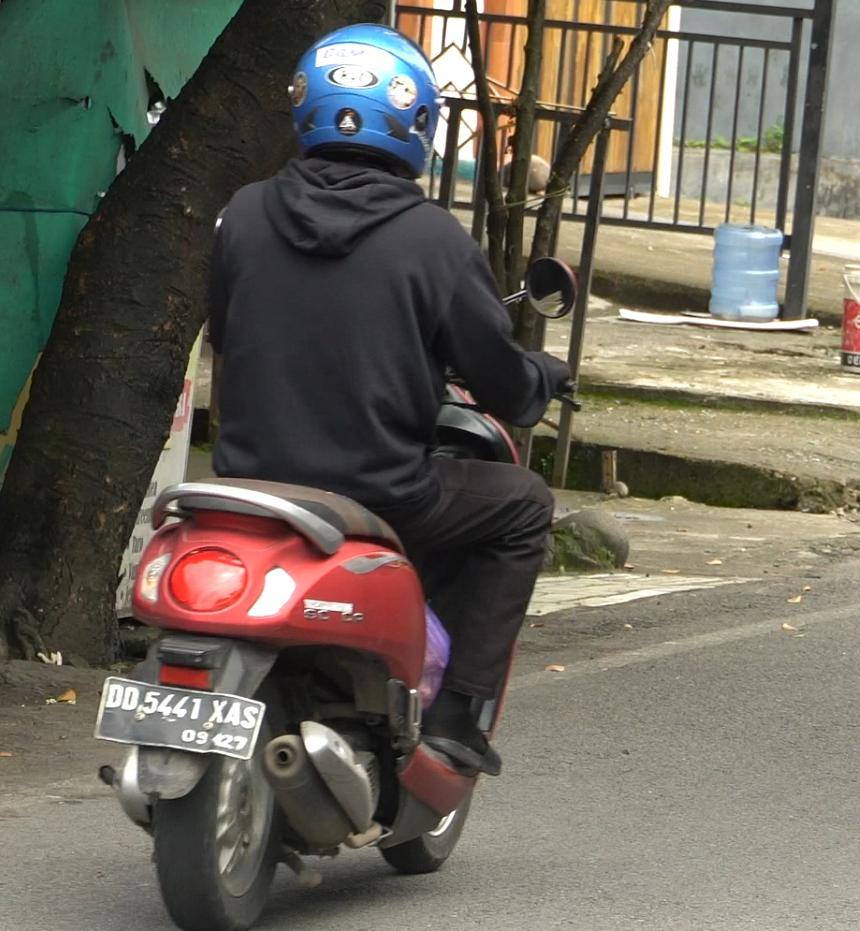number-plate: (88, 673, 257, 761)
